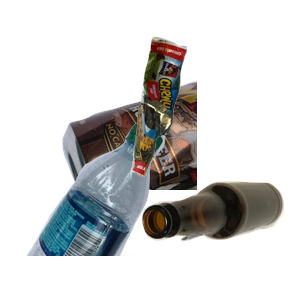glass: (140, 179, 300, 300)
metal: (60, 79, 300, 259)
plastic: (24, 120, 182, 300)
trash: (130, 34, 300, 203)
